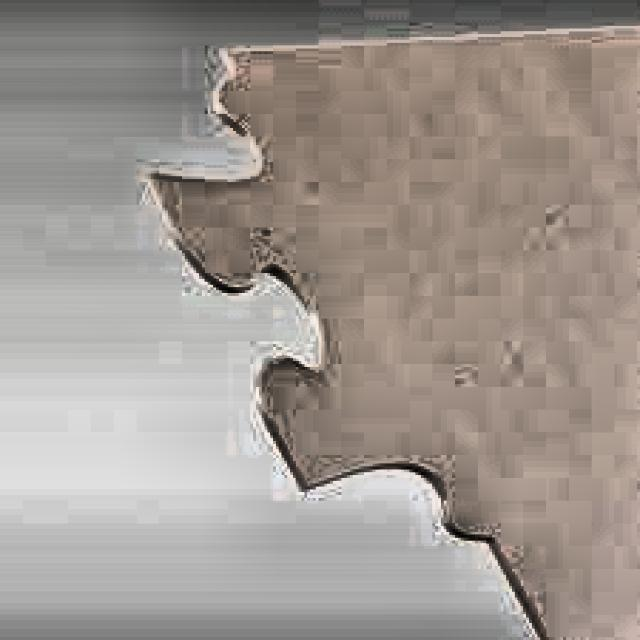cardboard: (145, 14, 640, 640)
